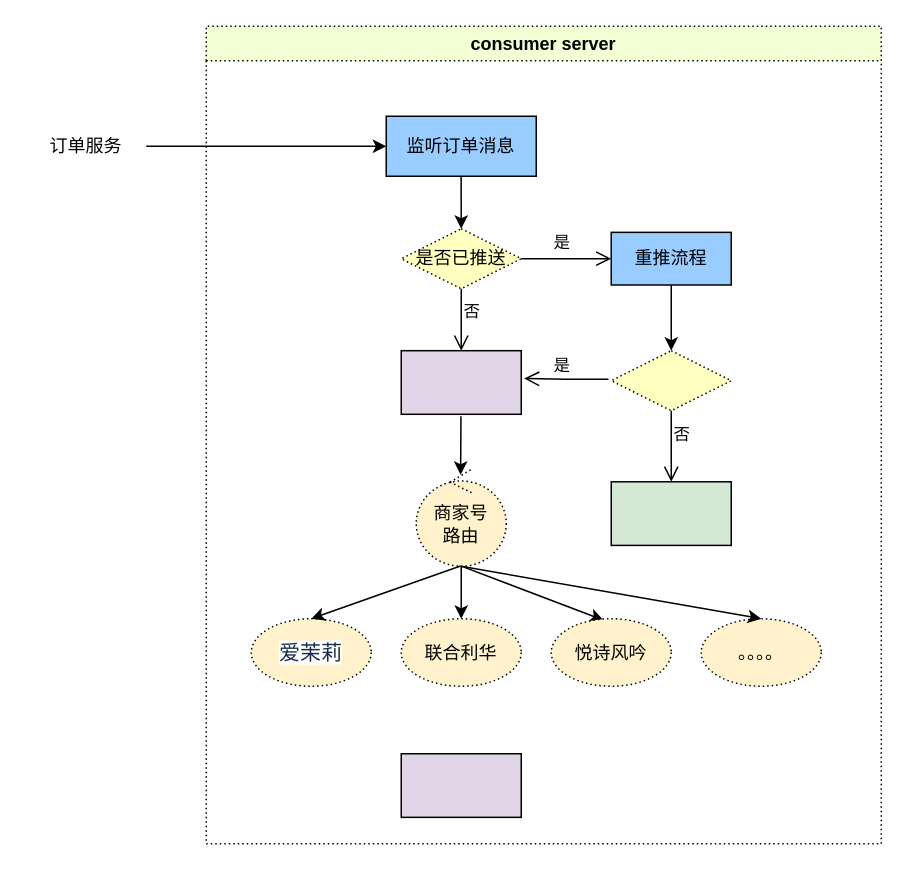
This 908x870 diagram has some shape labels left out. Each missing label, with the centre of its shape:
手动推送: the point at 670,380
更新推送/重推日志状态: the point at 460,784
服务日志记录: the point at 670,512
记录推送/重推日志: the point at 460,381
